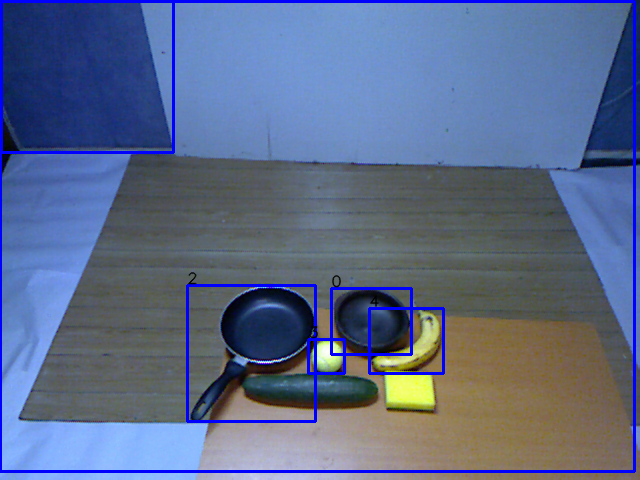esponja: (376, 366, 441, 422)
greda: (330, 287, 413, 355)
pelota: (306, 338, 347, 379)
pepino: (235, 364, 383, 416)
platano: (357, 300, 447, 376)
sarten: (185, 281, 320, 427)
